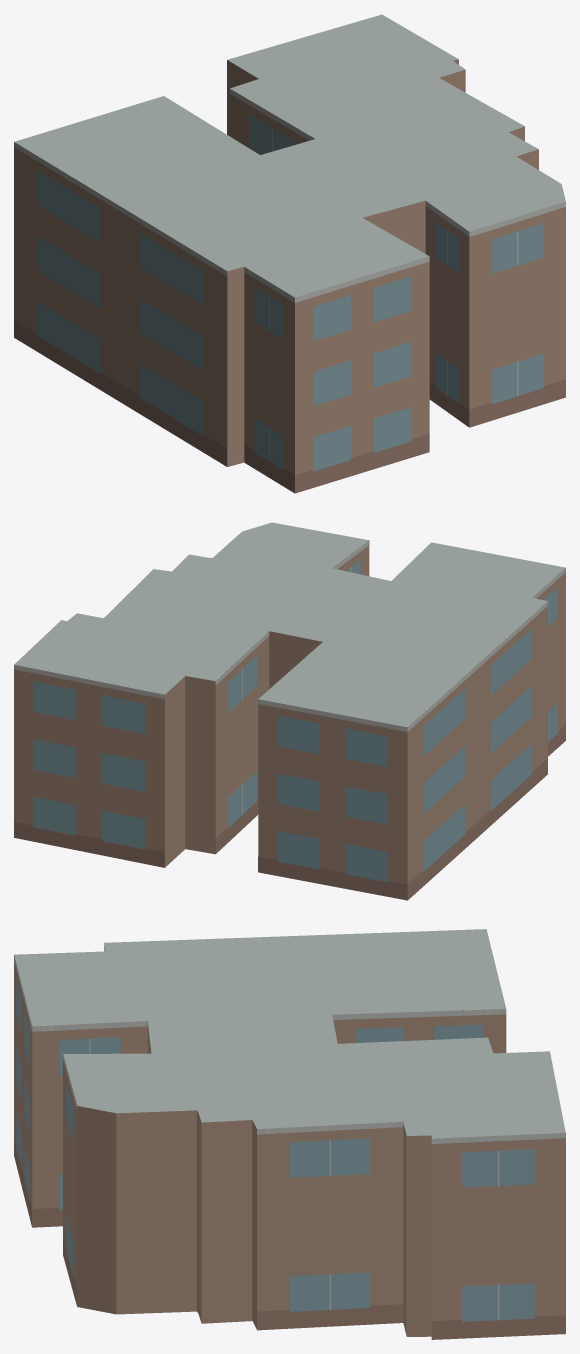
Rendered from survey-upis-32485505.glb.
3 views of the same model, one above another, from view 1: azimuth 30°, elevation 25°; view 2: azimuth 150°, elevation 25°; view 3: azimuth 270°, elevation 25° (orthographic). The views are drawn at different scales.
Parts seen in each view (by area): view 1: survey-upis-32485505.tmp; view 2: survey-upis-32485505.tmp; view 3: survey-upis-32485505.tmp.
Part boxes in pixels (x1,y1,x2,y2): survey-upis-32485505.tmp: [14, 14, 565, 493]; survey-upis-32485505.tmp: [14, 522, 565, 900]; survey-upis-32485505.tmp: [14, 929, 565, 1339].
Bounding box in the file's own units: 20.47 × 9.15 × 22.76.
